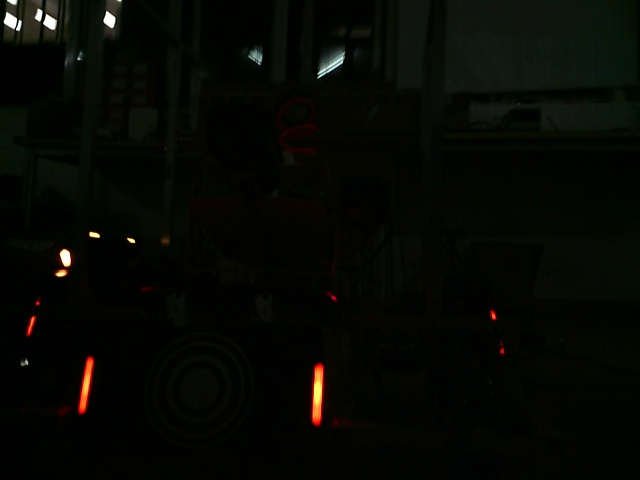lamp: (74, 353, 98, 418), (307, 362, 326, 429)
